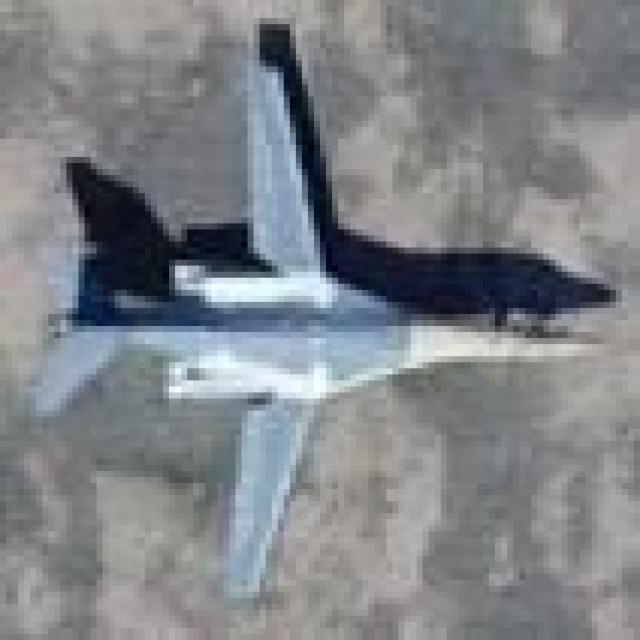B-1_TopDown: (18, 12, 622, 598)
